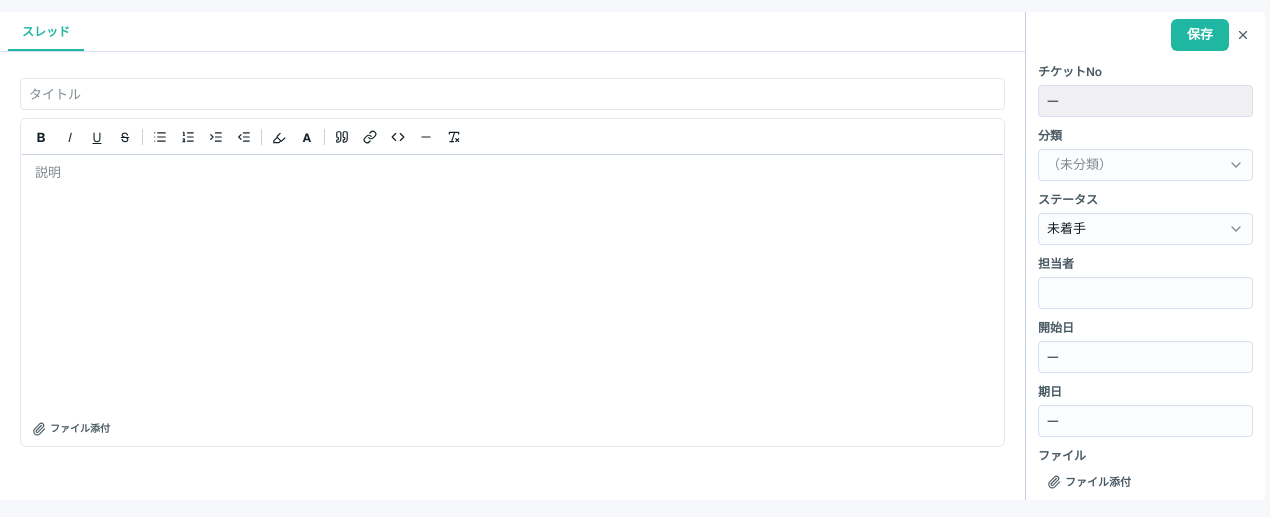
TaskCreateOverlay — 新規登録（variant=create / mock .is-creating） › 分類 select に「未分類」(空 value) + 渡された分類のみを並べること（rete-desk-0158）
This screenshot has width=1270, height=517.
Note: 選択肢は trigger クリックで開いてから option role で列挙する。
Click the button labelled "（未分類）": (1146, 165) [1038,149,1253,181]
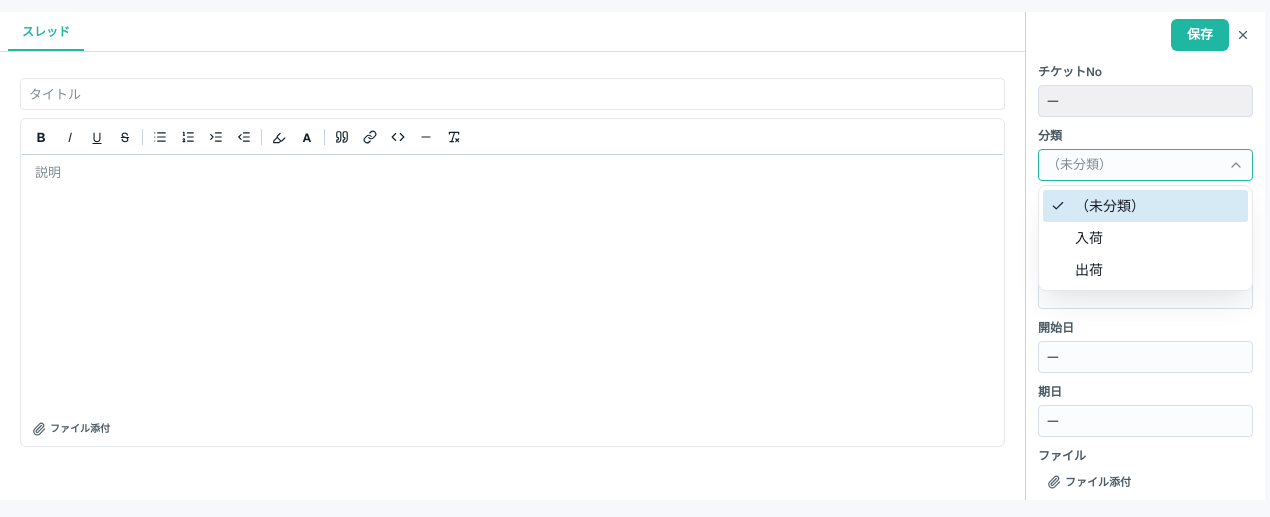
Now the options read "（未分類）", "入荷", "出荷", in this order, box [1043,190,1248,222]; [1075,229,1103,247]; [1075,261,1103,279]
Now the option "（未分類）" is shown, box [1043,190,1248,222]
